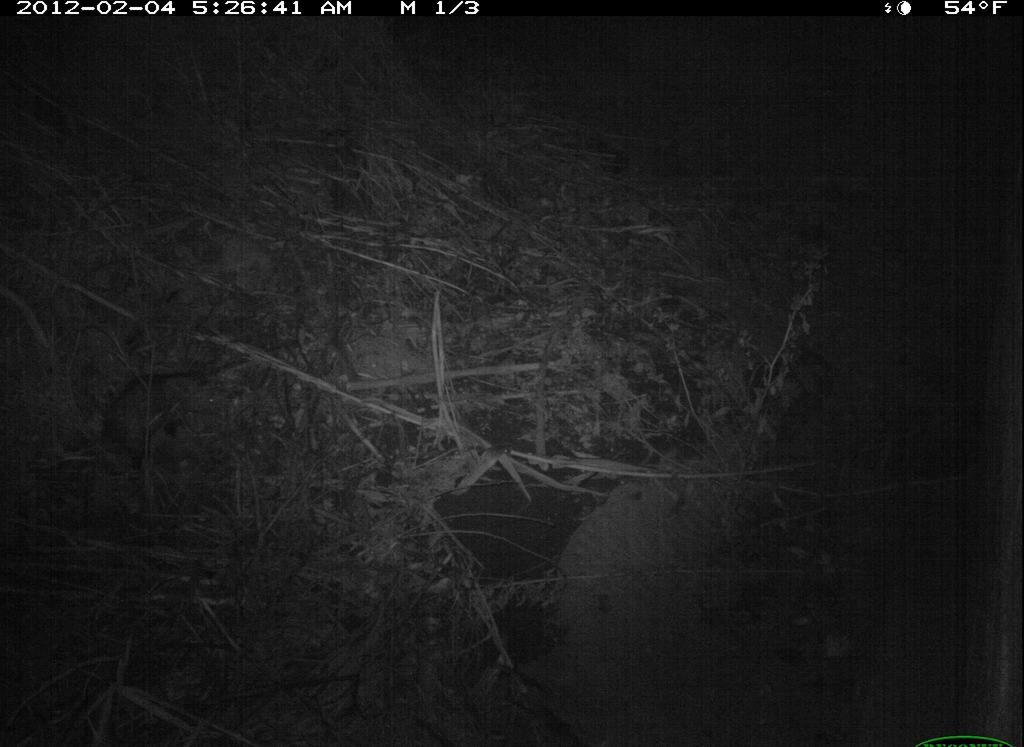opossum: (84, 355, 239, 483)
